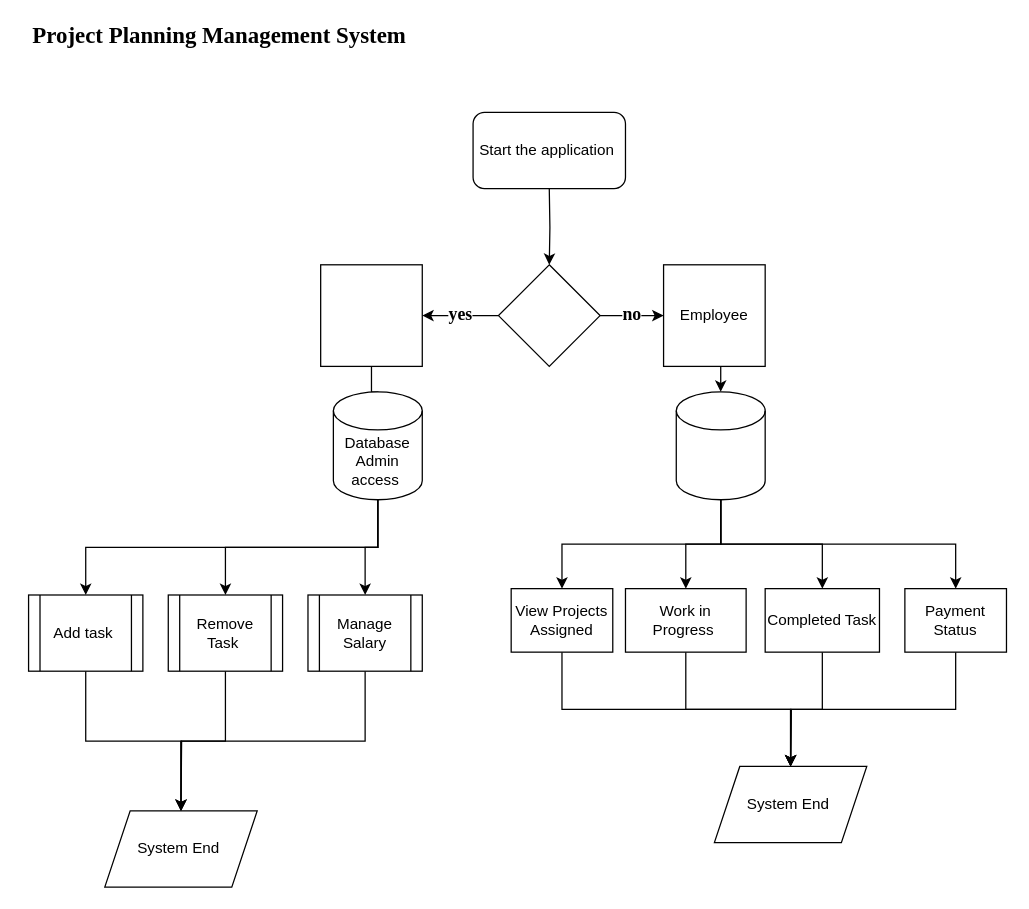
The diagram is 1029 pixels wide and 909 high, and some of its shapes have lost their labels. Each missing label, with the box of its shape:
Admin: (319, 264, 422, 366)
Database view access only: (675, 391, 765, 500)
Log in: (497, 264, 600, 366)
